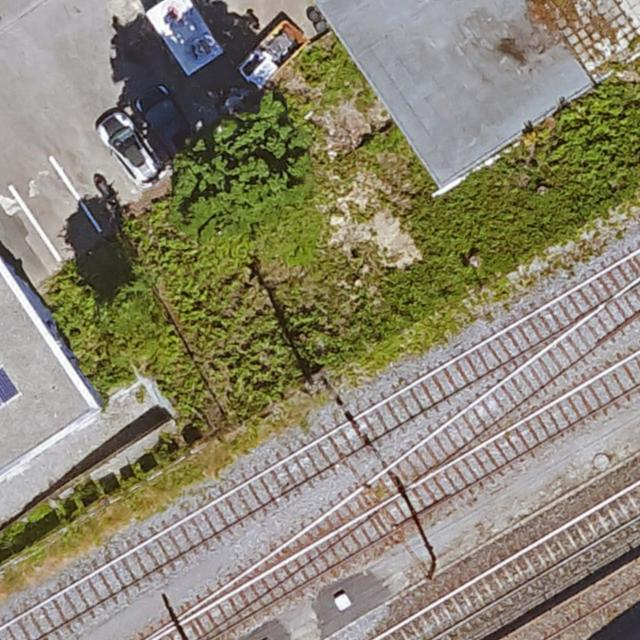tree: (167, 102, 313, 229)
